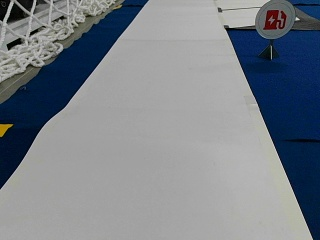battery: (254, 0, 295, 39)
